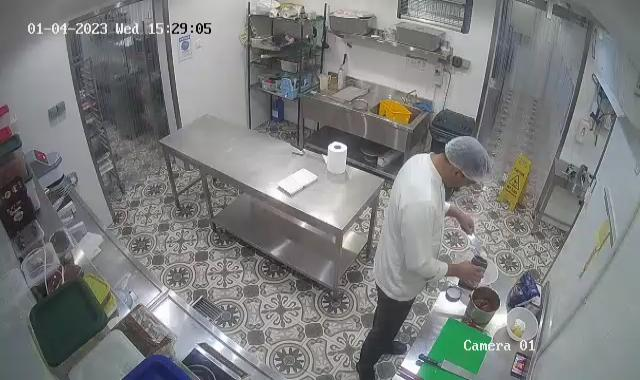hairnet: (445, 131, 492, 182)
